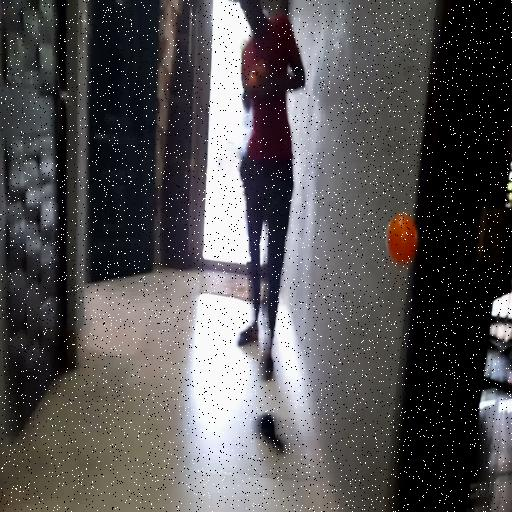plastic-ball: (386, 212, 417, 269)
